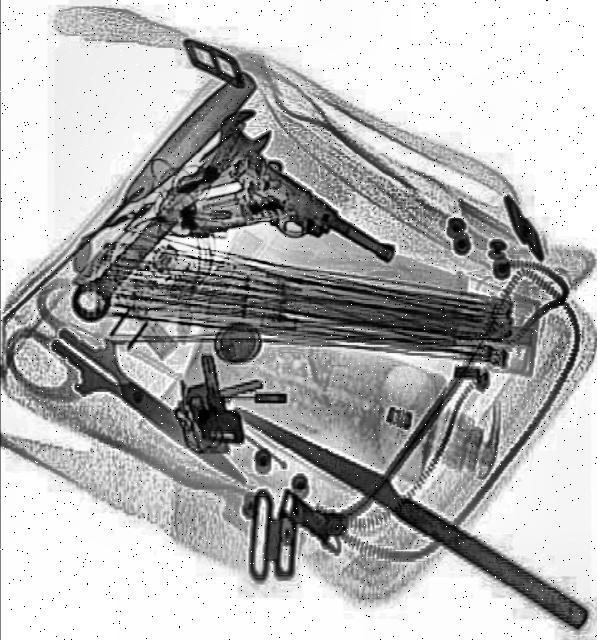Gun: (180, 142, 401, 338)
Knife: (227, 396, 597, 636), (1, 70, 263, 328), (37, 314, 267, 508)
Wrench: (61, 100, 281, 334)
